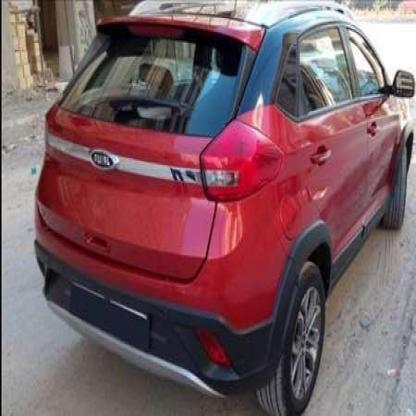Car: (40, 0, 416, 416)
